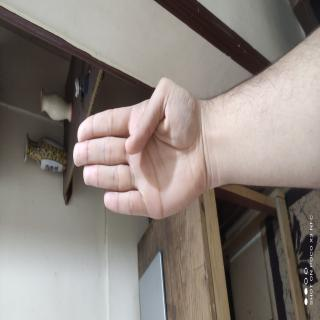KAAF: (43, 154, 111, 320)
